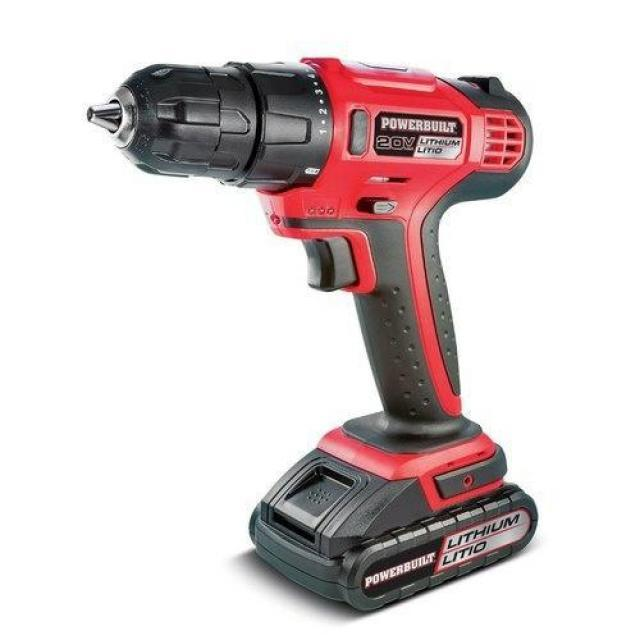drill: (85, 54, 538, 612)
